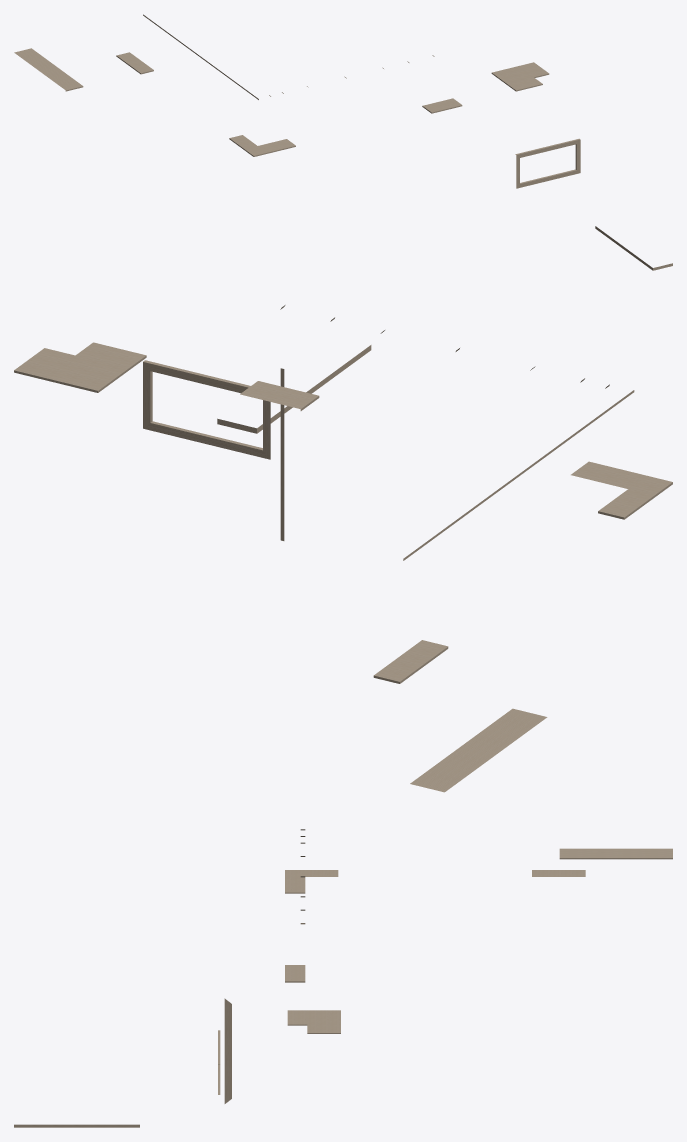
File: kd_stage_135ded_4_19_exterior.glb
3 renders of one model, top to bottom at view 1: azimuth 30°, elevation 25°; view 2: azimuth 150°, elevation 25°; view 3: azimuth 270°, elevation 25°, orthographic. The views are drawn at different scales.
Visible parts, largest first — view 1: kd_stage_135ded_4_19_exterior; view 2: kd_stage_135ded_4_19_exterior; view 3: kd_stage_135ded_4_19_exterior.
Boxes of the visible parts, bbox=[...] form: kd_stage_135ded_4_19_exterior: bbox=[14, 14, 672, 270]; kd_stage_135ded_4_19_exterior: bbox=[14, 305, 672, 792]; kd_stage_135ded_4_19_exterior: bbox=[14, 829, 672, 1127].
Bounding box in the file's own units: 6.96 × 2.8 × 9.86.
1 material, 1 textured.
